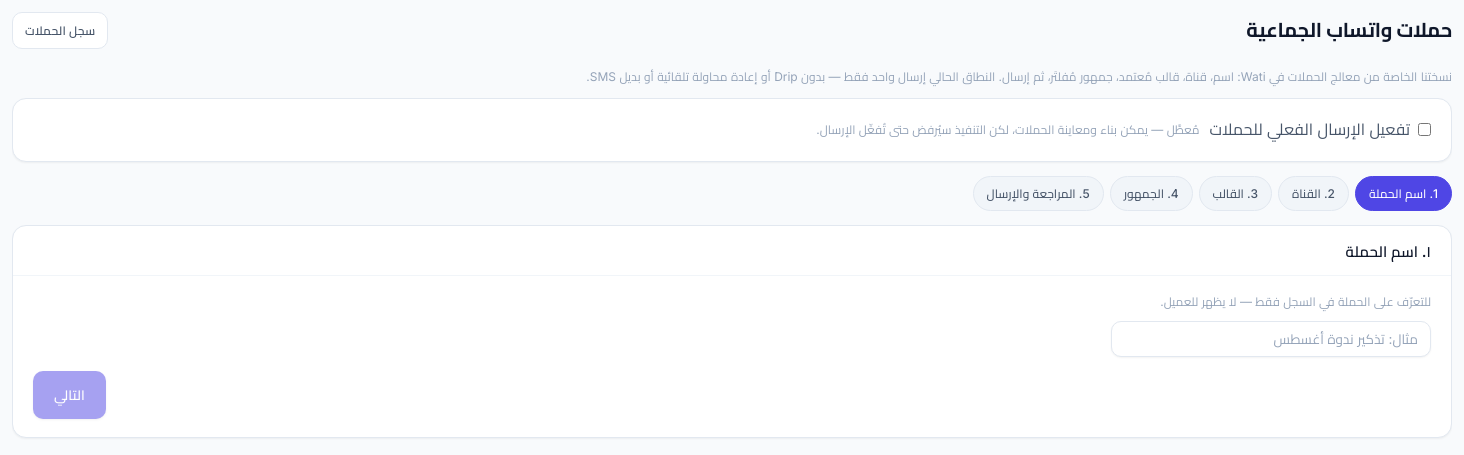
step 0 — name › keeps Next disabled until a name is entered
The image size is (1464, 455).
Check: the button "التالي" is disabled, box x1=33 y1=371 x2=106 y2=419
Type "Promo" into the field with placeholder "مثال: تذكير ندوة أغسطس".
click(1271, 339); type("Promo")  # box x1=1111 y1=321 x2=1431 y2=357
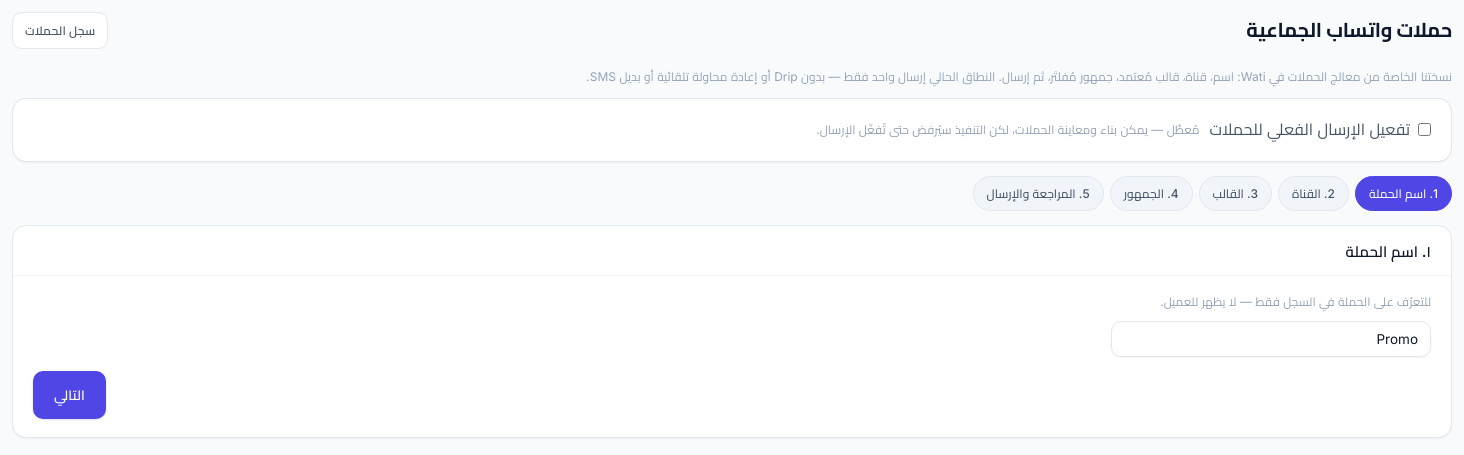
Check: the button "التالي" is enabled, box x1=33 y1=371 x2=106 y2=419
